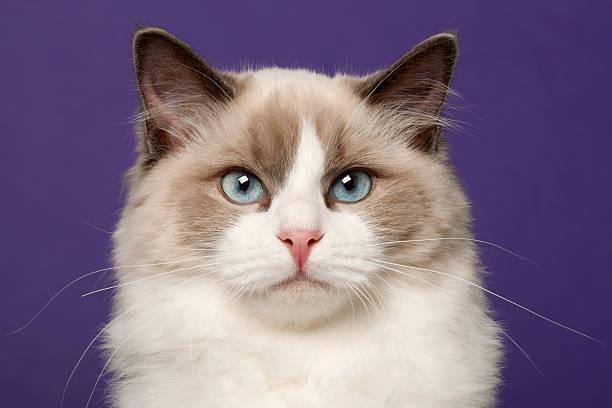ragdoll: (127, 20, 464, 333)
